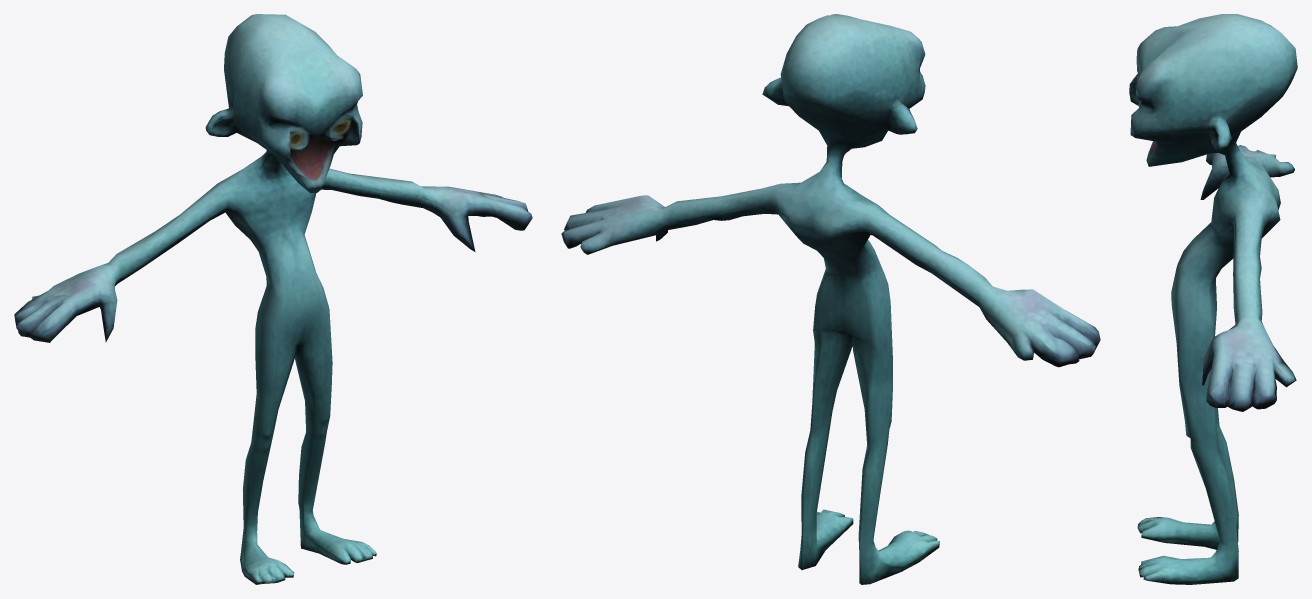
The model's file is hollow_b.glb.
3 views of the same model, side by side, from view 1: azimuth 30°, elevation 25°; view 2: azimuth 150°, elevation 25°; view 3: azimuth 270°, elevation 25° (orthographic). The views are drawn at different scales.
Visible parts, largest first — view 1: hollow_b; view 2: hollow_b; view 3: hollow_b.
Boxes of the visible parts, x1,y1,x2,y2 form: hollow_b: [14, 14, 532, 584]; hollow_b: [561, 14, 1100, 584]; hollow_b: [1129, 14, 1297, 584].
Bounding box in the file's own units: 0.9944 × 0.9974 × 0.2788.
Materials: 1 (1 with a texture image).
